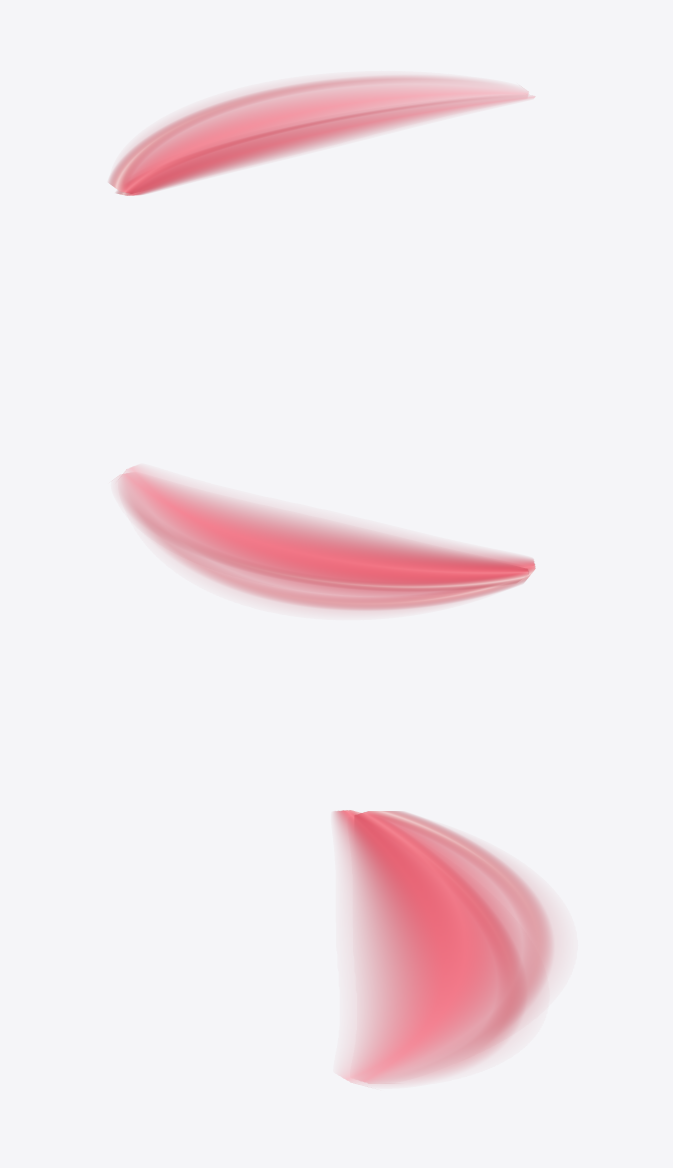
The model's file is fx_slash.glb.
The picture shows the model from 3 angles, top to bottom: view 1: azimuth 30°, elevation 25°; view 2: azimuth 150°, elevation 25°; view 3: azimuth 270°, elevation 25°; orthographic projection. The views are drawn at different scales.
Parts seen in each view (by area): view 1: fx_slash; view 2: fx_slash; view 3: fx_slash.
Part boxes in pixels (bbox=[...]): fx_slash: bbox=[108, 76, 534, 195]; fx_slash: bbox=[116, 466, 535, 610]; fx_slash: bbox=[334, 810, 554, 1086].
Bounding box in the file's own units: 1 × 0.27 × 1.
Materials: 1 (1 with a texture image).
